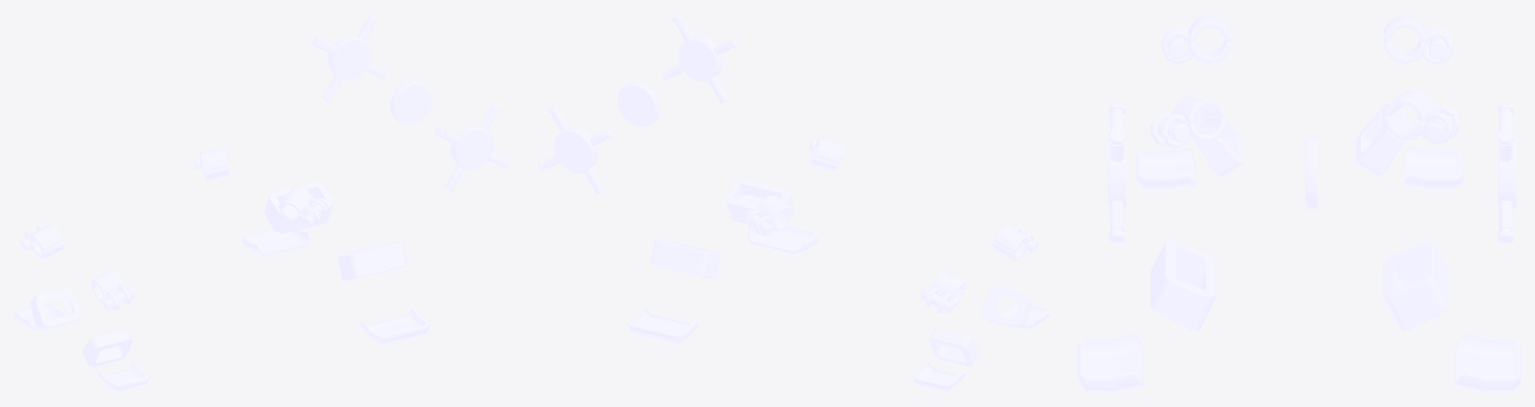
3 views of the same model, side by side, from view 1: azimuth 30°, elevation 25°; view 2: azimuth 150°, elevation 25°; view 3: azimuth 270°, elevation 25° (orthographic). The views are drawn at different scales.
Parts seen in each view (by area): view 1: SM_DR_Medium_Bush_Meadows_A_LOD0; view 2: SM_DR_Medium_Bush_Meadows_A_LOD0; view 3: SM_DR_Medium_Bush_Meadows_A_LOD0.
Boxes of the visible parts, x1,y1,x2,y2 form: SM_DR_Medium_Bush_Meadows_A_LOD0: (14, 14, 509, 392); SM_DR_Medium_Bush_Meadows_A_LOD0: (538, 14, 1049, 392); SM_DR_Medium_Bush_Meadows_A_LOD0: (1078, 14, 1520, 392).
Size of the model in its own units: 3.42 by 1.72 by 2.12.
